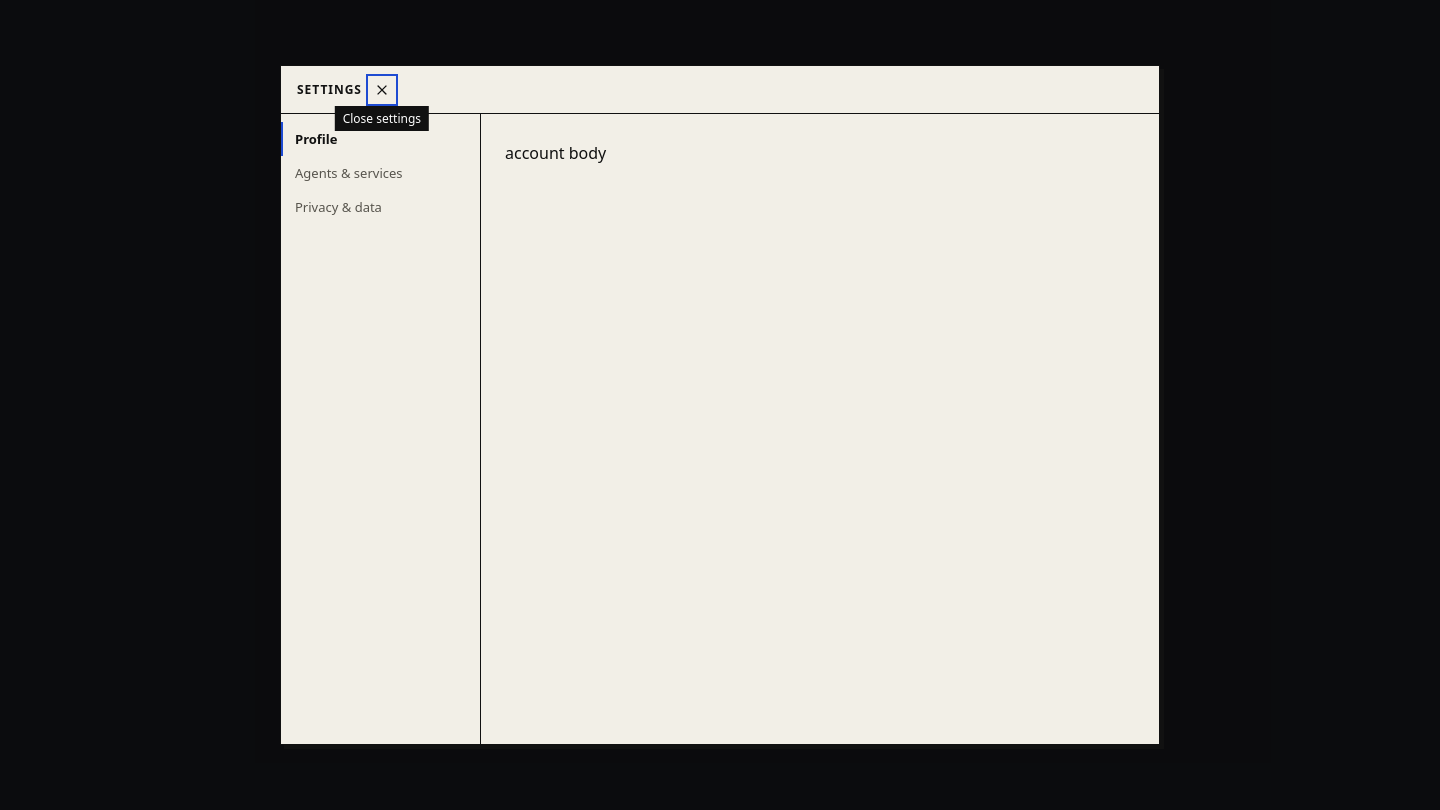
Settings › shows a section on click and follows the arrow keys
Click the tab with test id "settings-tab-agents" at (380, 173), box [281,156,480,190]
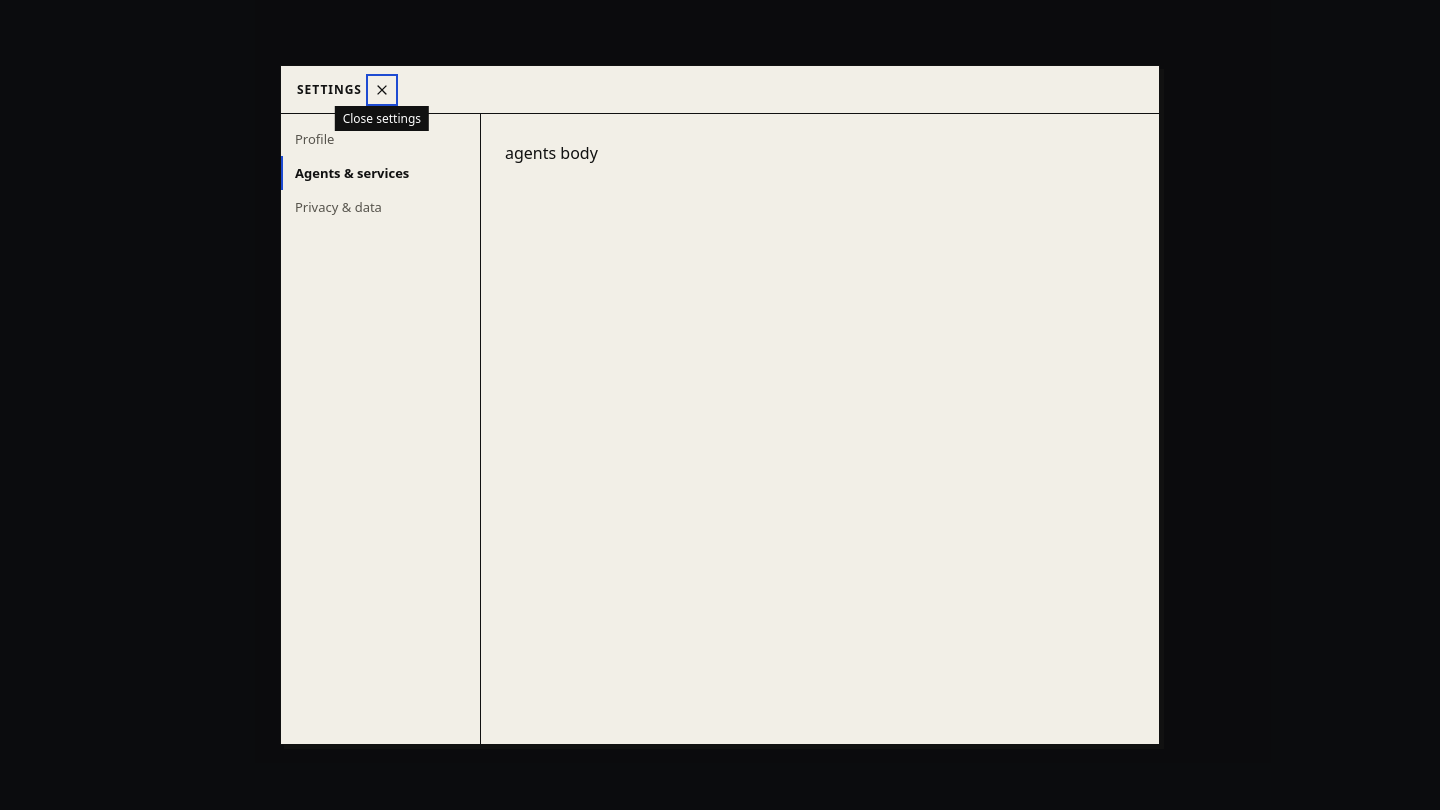
Check: the panel reads "agents body", box [505,142,598,164]
Press ArrowDown in the tab with test id "settings-tab-agents", box [281,156,480,190]
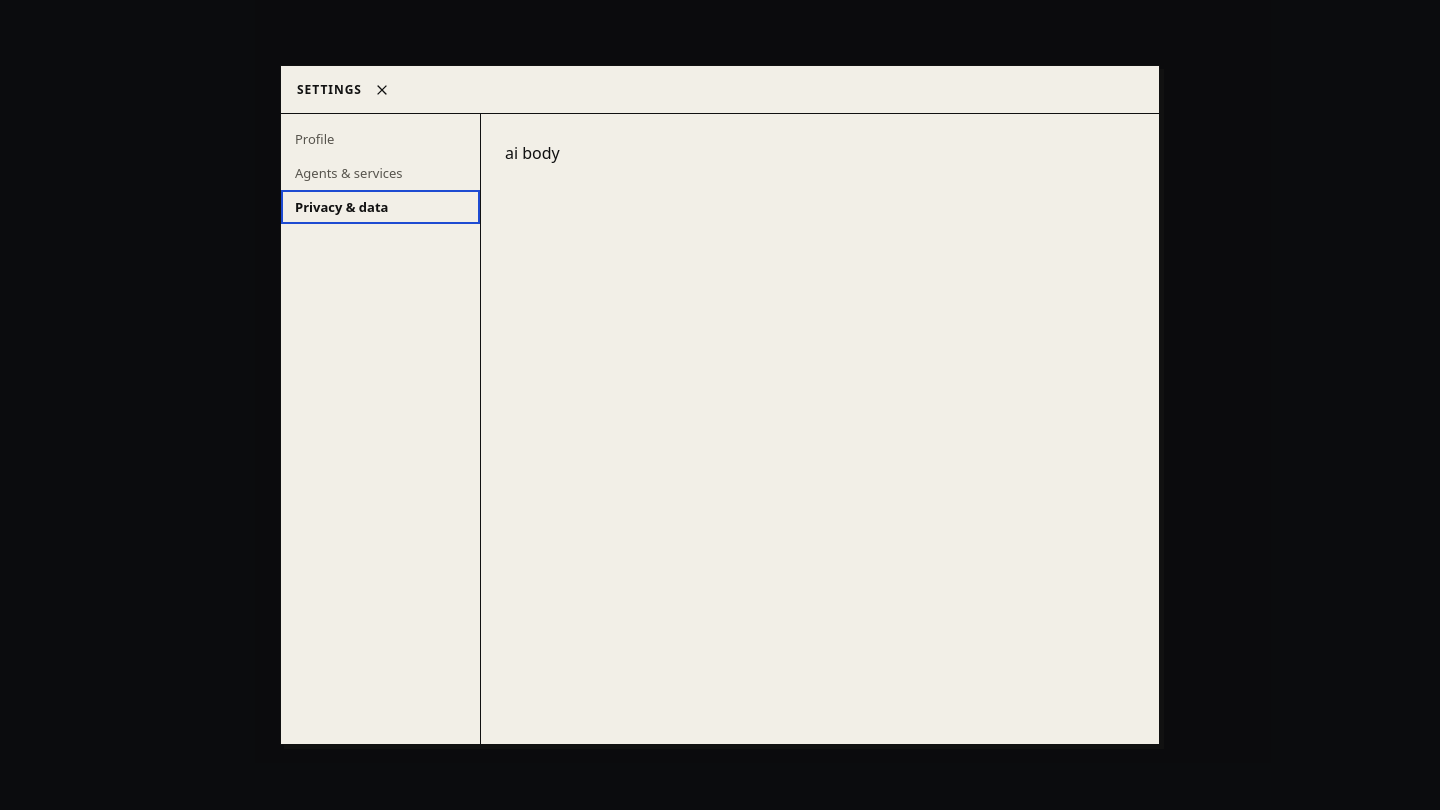
Check: the panel reads "ai body", box [505,142,560,164]
